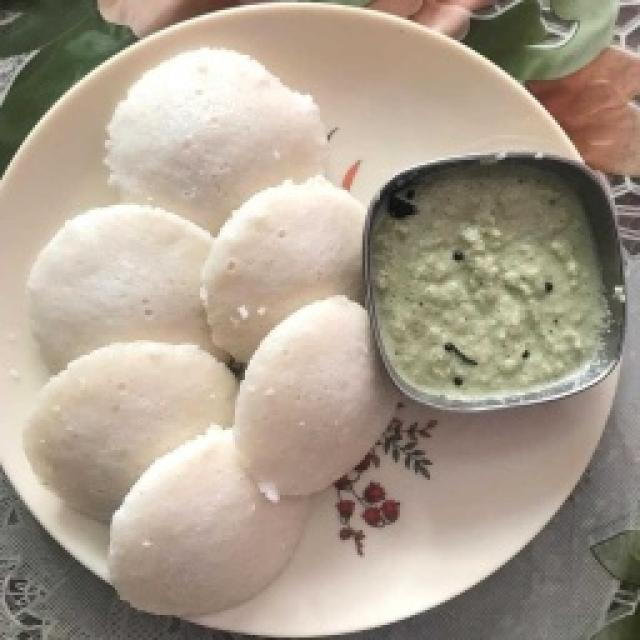idli: (46, 80, 367, 544)
